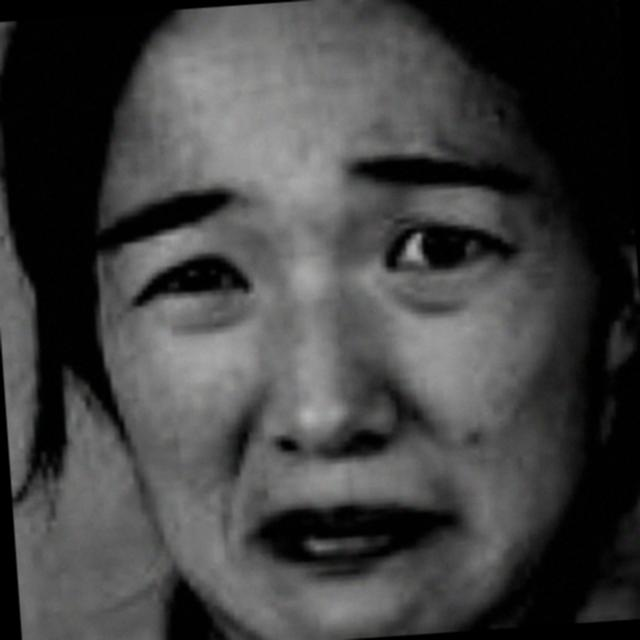disgust: (71, 50, 558, 640)
